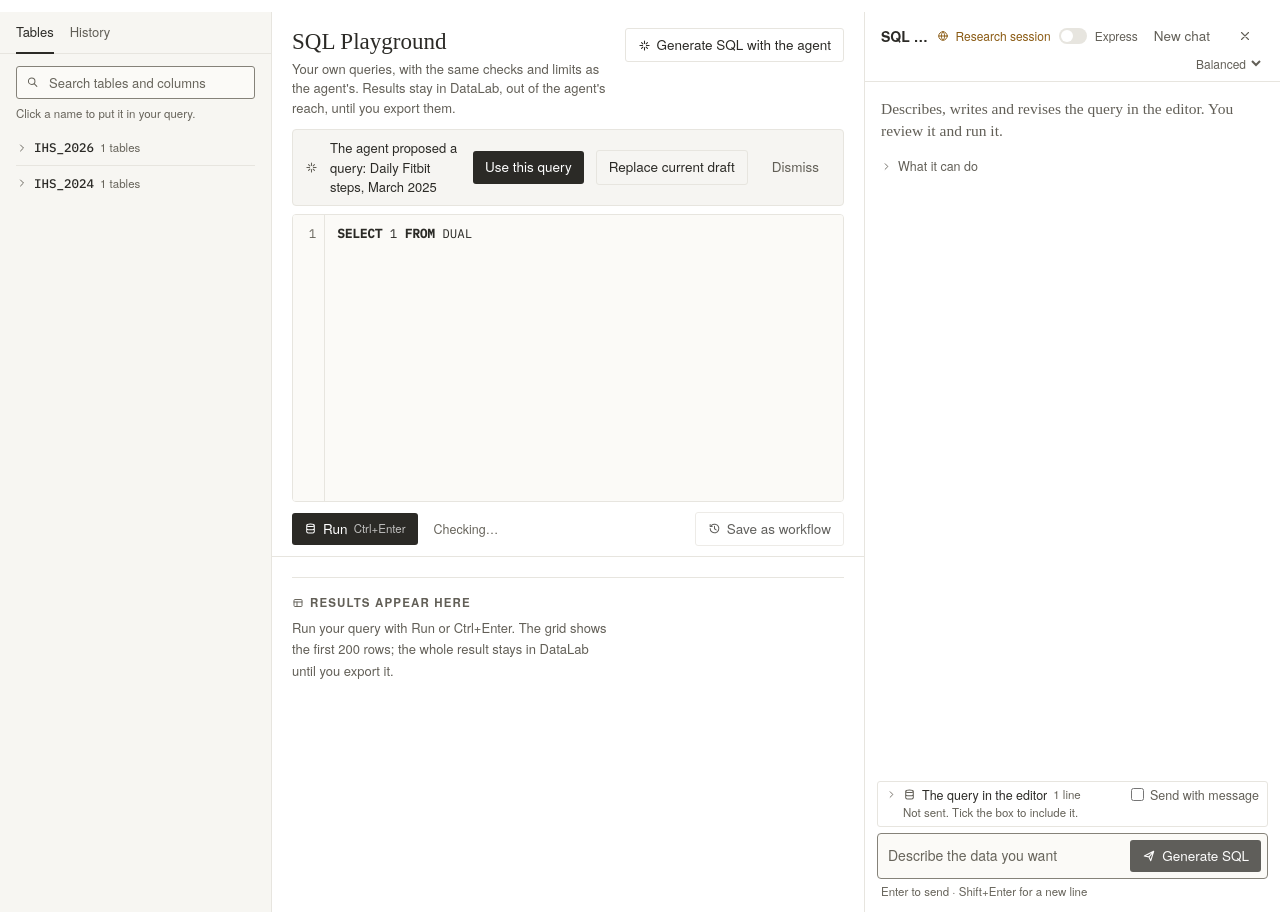
Test: forgets the waiting proposal when another chat is opened
Expected: the message "The agent proposed a query" is shown, [292,129,844,206]
Click the button "New chat" at (1182, 36), box [1142,20,1222,52]
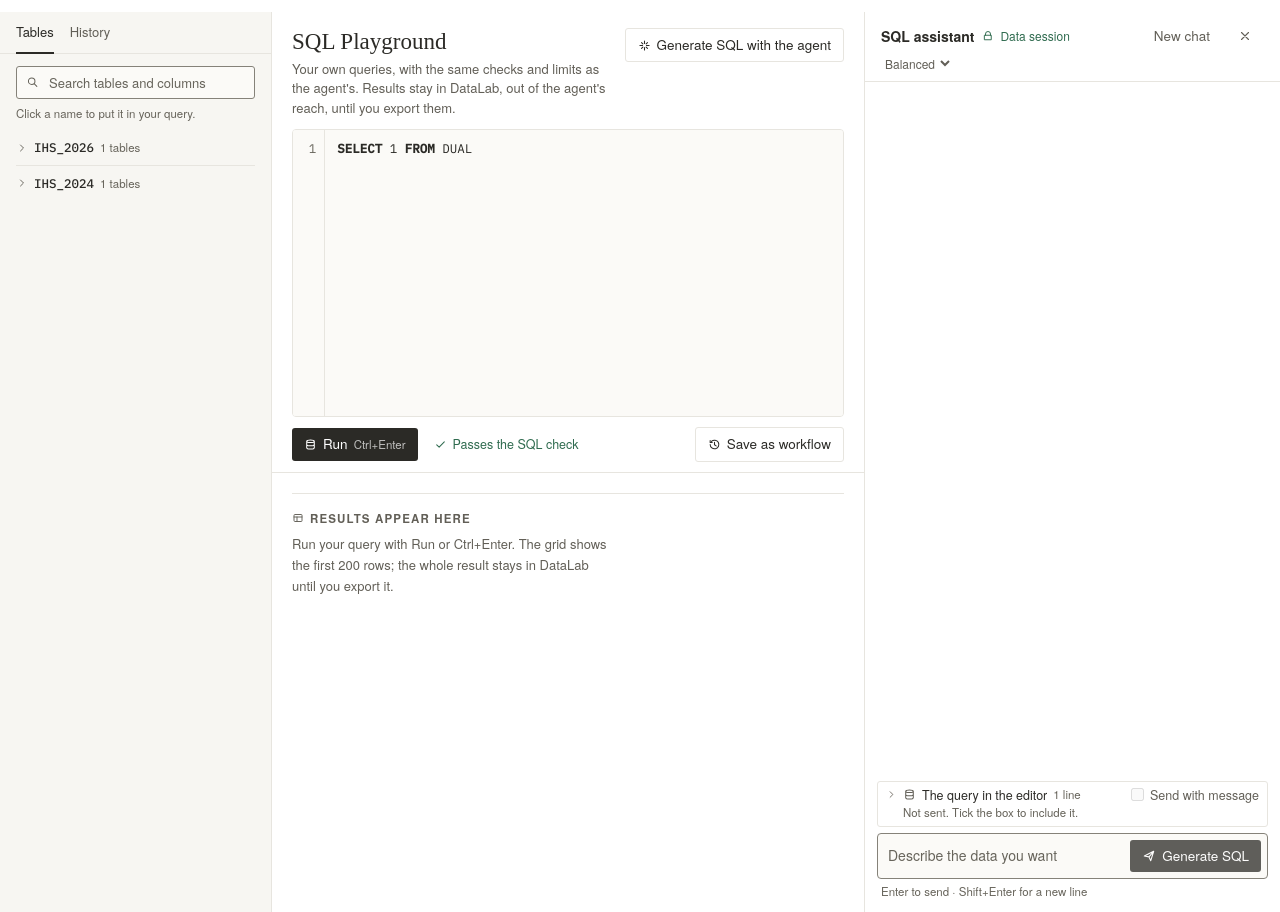
Expected: the text box labelled "SELECT 1 FROM DUAL" is shown, [337,140,472,156]
Expected: the message "The agent proposed a query" is gone
